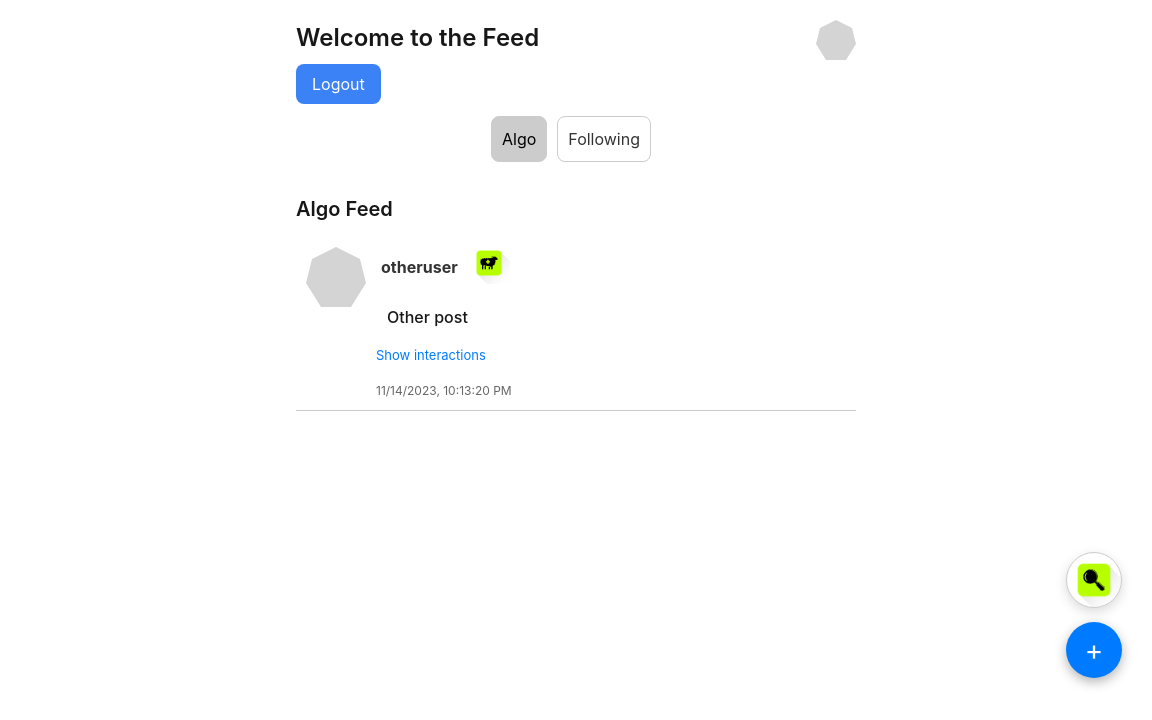
Test: Feed flow integration › follow/unfollow toggles button text
This screenshot has width=1152, height=720.
Click the button titled "Follow".
click(489, 263)  # box x1=468 y1=242 x2=510 y2=284
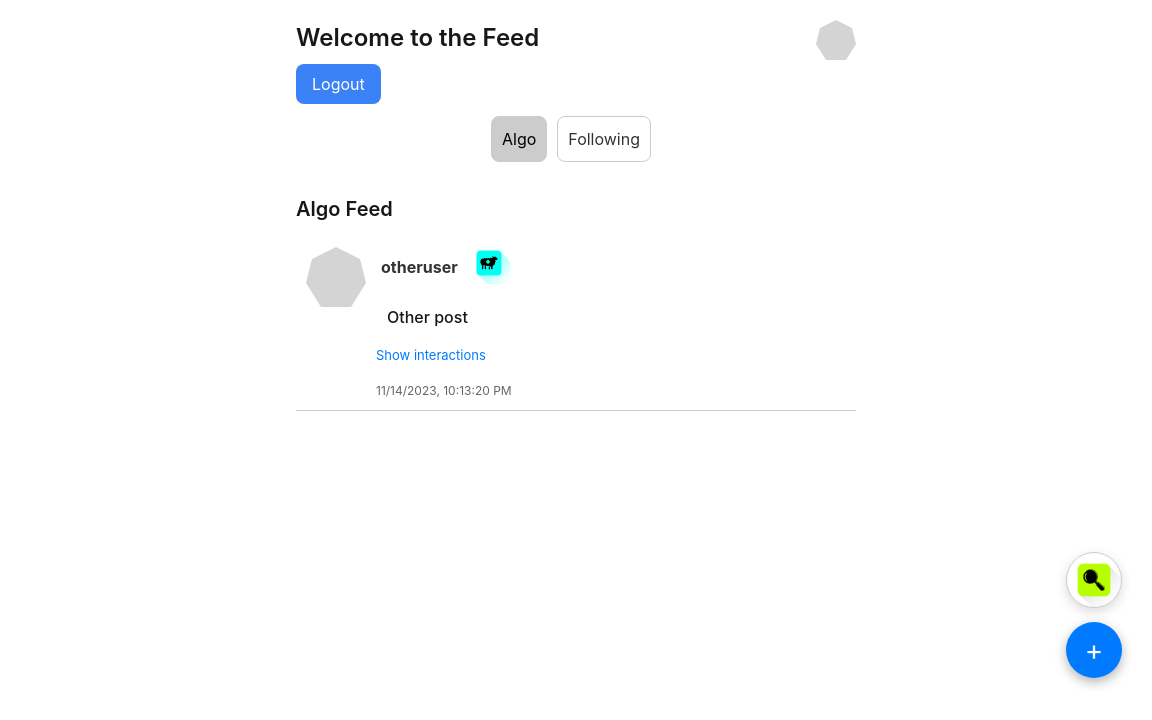
Expected: the button titled "Unfollow" is shown, x1=468 y1=242 x2=510 y2=284
